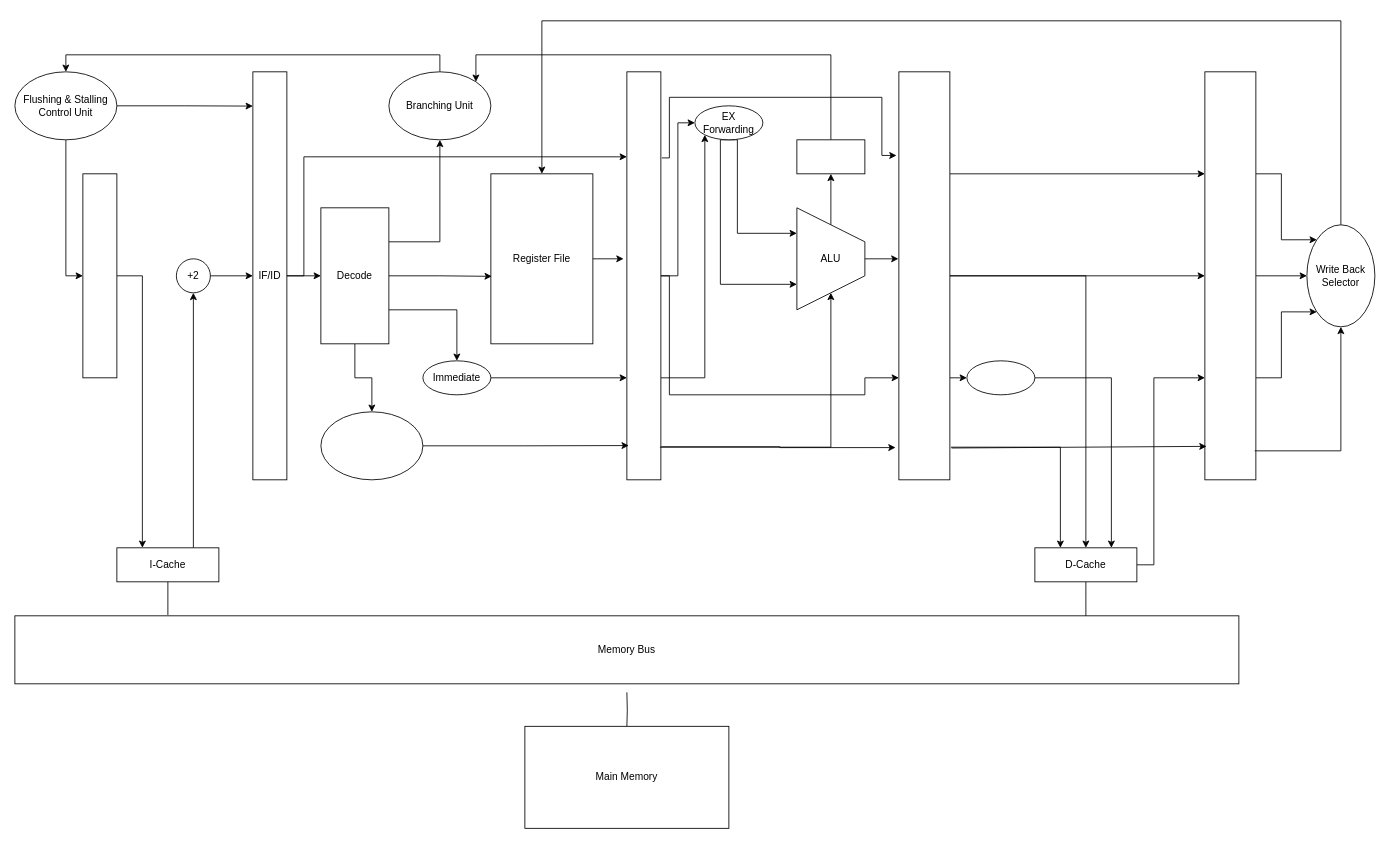
The diagram is 1390 pixels wide and 843 high, and some of its shapes have lost their labels. The centre of each missing label's shape, as x and y in pixels:
"Control Signals" goes at point (371, 445).
"EX/MEM" goes at point (924, 275).
"Flag" goes at point (830, 156).
"ID/EX" goes at point (643, 275).
"MEM Forwarding" goes at point (1000, 377).
"MEM/WB" goes at point (1230, 275).
"PC" goes at point (99, 275).
